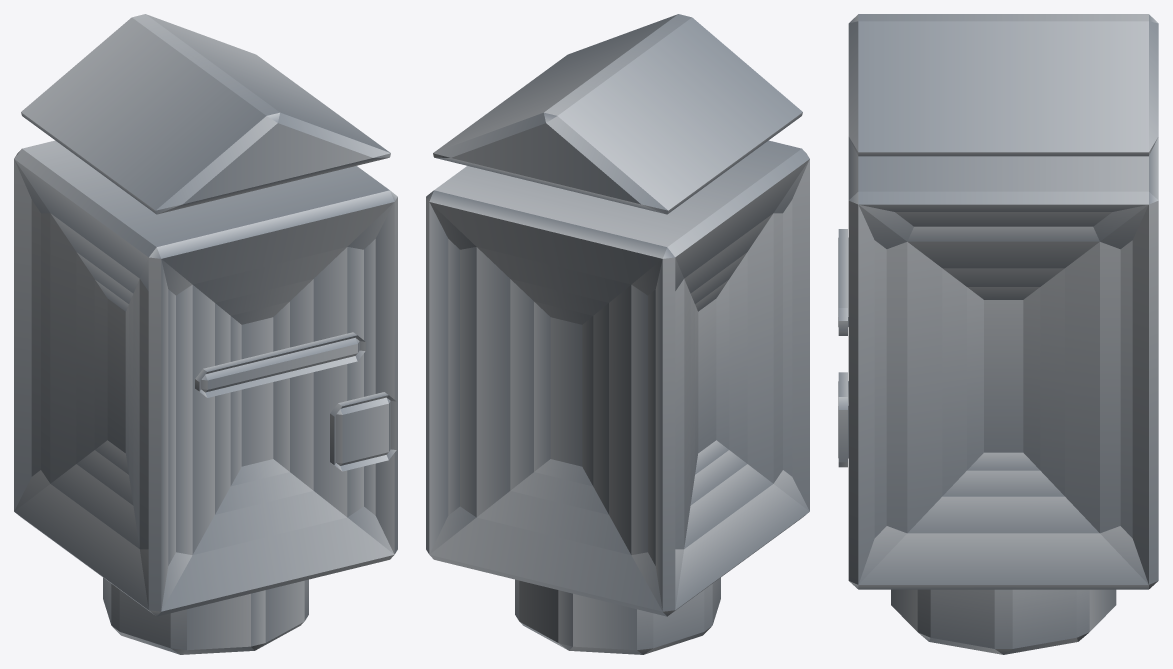
File: dt_mailbox.fbx
The picture shows the model from 3 angles, left to right: view 1: azimuth 30°, elevation 25°; view 2: azimuth 150°, elevation 25°; view 3: azimuth 270°, elevation 25°; orthographic projection. The views are drawn at different scales.
Parts seen in each view (by area): view 1: dt_mailbox; view 2: dt_mailbox; view 3: dt_mailbox.
Part boxes in pixels (x1,y1,x2,y2): dt_mailbox: (14,14,397,654); dt_mailbox: (426,14,809,654); dt_mailbox: (838,14,1158,654).
Bounding box in the file's own units: 213 × 450 × 220.
